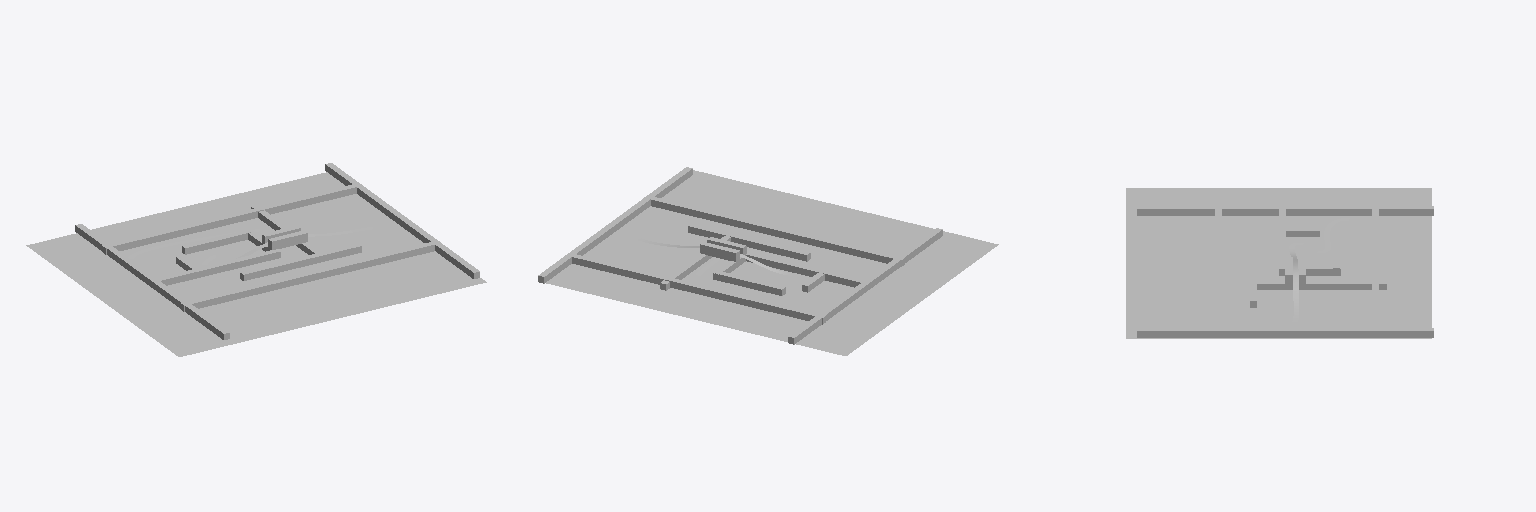
Rendered from course.obj.
3 renders of one model, left to right at view 1: azimuth 30°, elevation 25°; view 2: azimuth 150°, elevation 25°; view 3: azimuth 270°, elevation 25°, orthographic.
Parts seen in each view (by area): view 1: dirt_Plane.006, Cube.001_Cube.003, Cube_Cube.002, Cube.002_Cube.004, Cube.003_Cube.005, road_Plane.005, Cube.004_Cube.006, Cube.008_Cube.010, Cube.007_Cube.009; view 2: dirt_Plane.006, Cube.001_Cube.003, Cube_Cube.002, Cube.002_Cube.004, Cube.003_Cube.005, road_Plane.005, Cube.004_Cube.006, Cube.008_Cube.010, Cube.007_Cube.009, Cube.005_Cube.007; view 3: dirt_Plane.006, Cube.003_Cube.005, Cube.002_Cube.004, road_Plane.005, Cube.005_Cube.007, Cube_Cube.002, Cube.001_Cube.003.
Part boxes in pixels (x1,y1,x2,y2): dirt_Plane.006: (26,172,486,356); Cube.001_Cube.003: (181,241,439,311); Cube_Cube.002: (102,183,358,254); Cube.002_Cube.004: (75,224,229,339); Cube.003_Cube.005: (325,163,479,278); road_Plane.005: (128,227,387,285); Cube.004_Cube.006: (240,243,361,280); Cube.008_Cube.010: (157,249,280,285); Cube.007_Cube.009: (182,229,252,254); dirt_Plane.006: (546,170,998,355); Cube.001_Cube.003: (644,196,904,266); Cube_Cube.002: (568,253,825,324); Cube.002_Cube.004: (788,228,942,344); Cube.003_Cube.005: (538,167,692,283); road_Plane.005: (633,224,830,312); Cube.004_Cube.006: (688,224,810,261); Cube.008_Cube.010: (746,251,864,287); Cube.007_Cube.009: (715,271,785,295); Cube.005_Cube.007: (660,236,730,290); dirt_Plane.006: (1126,188,1431,338); Cube.003_Cube.005: (1137,328,1433,337); Cube.002_Cube.004: (1137,206,1433,215); road_Plane.005: (1243,218,1364,326); Cube.005_Cube.007: (1257,281,1386,289); Cube_Cube.002: (1372,205,1378,337); Cube.001_Cube.003: (1215,205,1221,337).
Bounding box in the file's own units: 97.31 × 4.7 × 84.42.